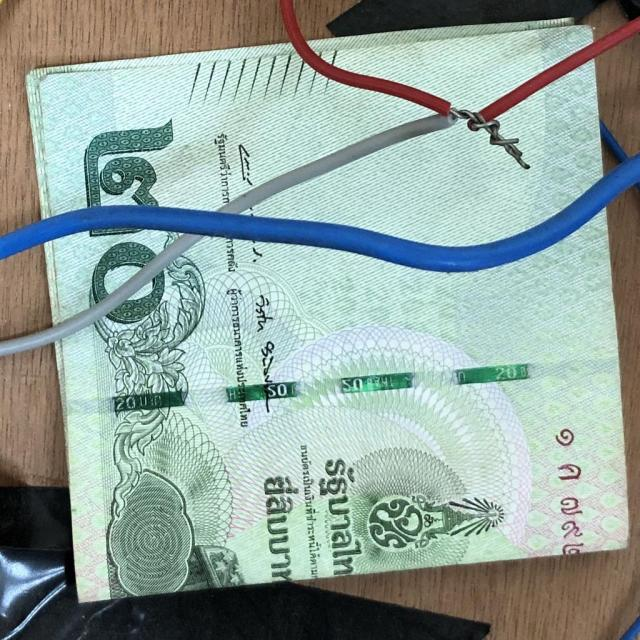THAI20: (56, 211, 628, 600), (27, 44, 428, 218), (246, 62, 602, 244), (311, 20, 592, 109), (45, 229, 178, 323)
